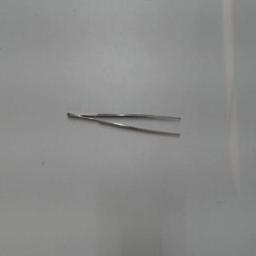Gillies Toothed Dissector: (60, 109, 184, 145)
